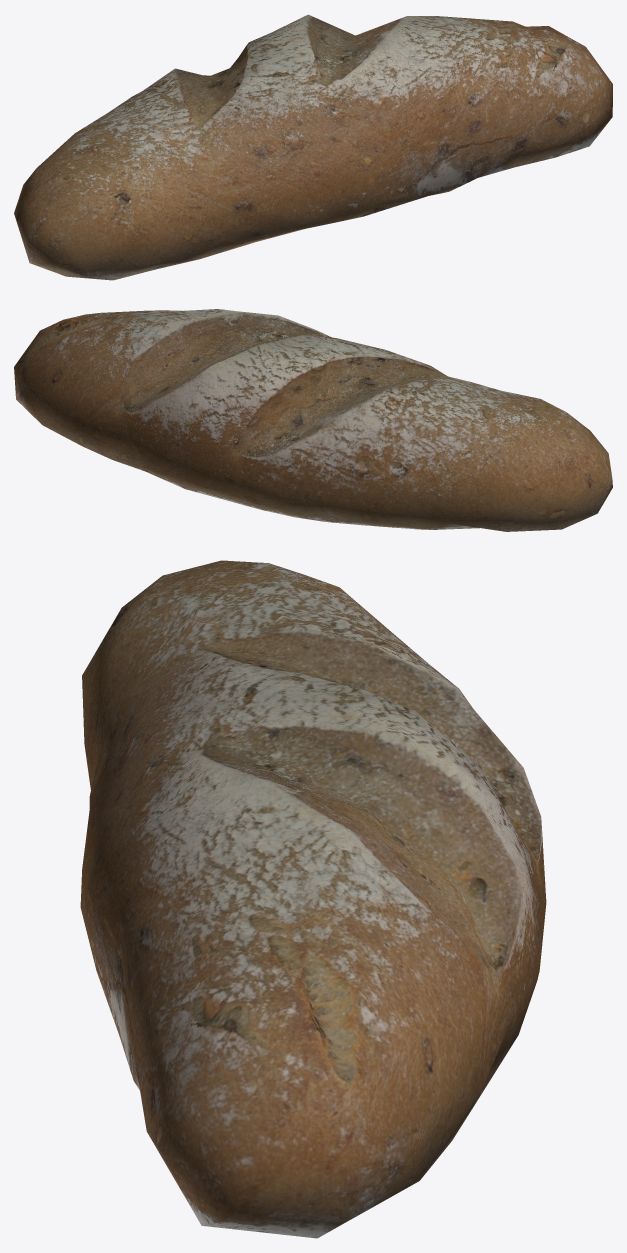
Rendered from 3DBread011_LQ-1K-JPG.obj.
The picture shows the model from 3 angles, top to bottom: view 1: azimuth 30°, elevation 25°; view 2: azimuth 150°, elevation 25°; view 3: azimuth 270°, elevation 25°; orthographic projection. The views are drawn at different scales.
Visible parts, largest first — view 1: 3DBread011_LQ-1K-JPG; view 2: 3DBread011_LQ-1K-JPG; view 3: 3DBread011_LQ-1K-JPG.
Boxes of the visible parts, x1,y1,x2,y2 form: 3DBread011_LQ-1K-JPG: (14,14,612,280); 3DBread011_LQ-1K-JPG: (14,309,612,531); 3DBread011_LQ-1K-JPG: (80,560,546,1238).
Size of the model in its own units: 0.1555 by 0.038 by 0.0553.
Materials: 1 (1 with a texture image).
